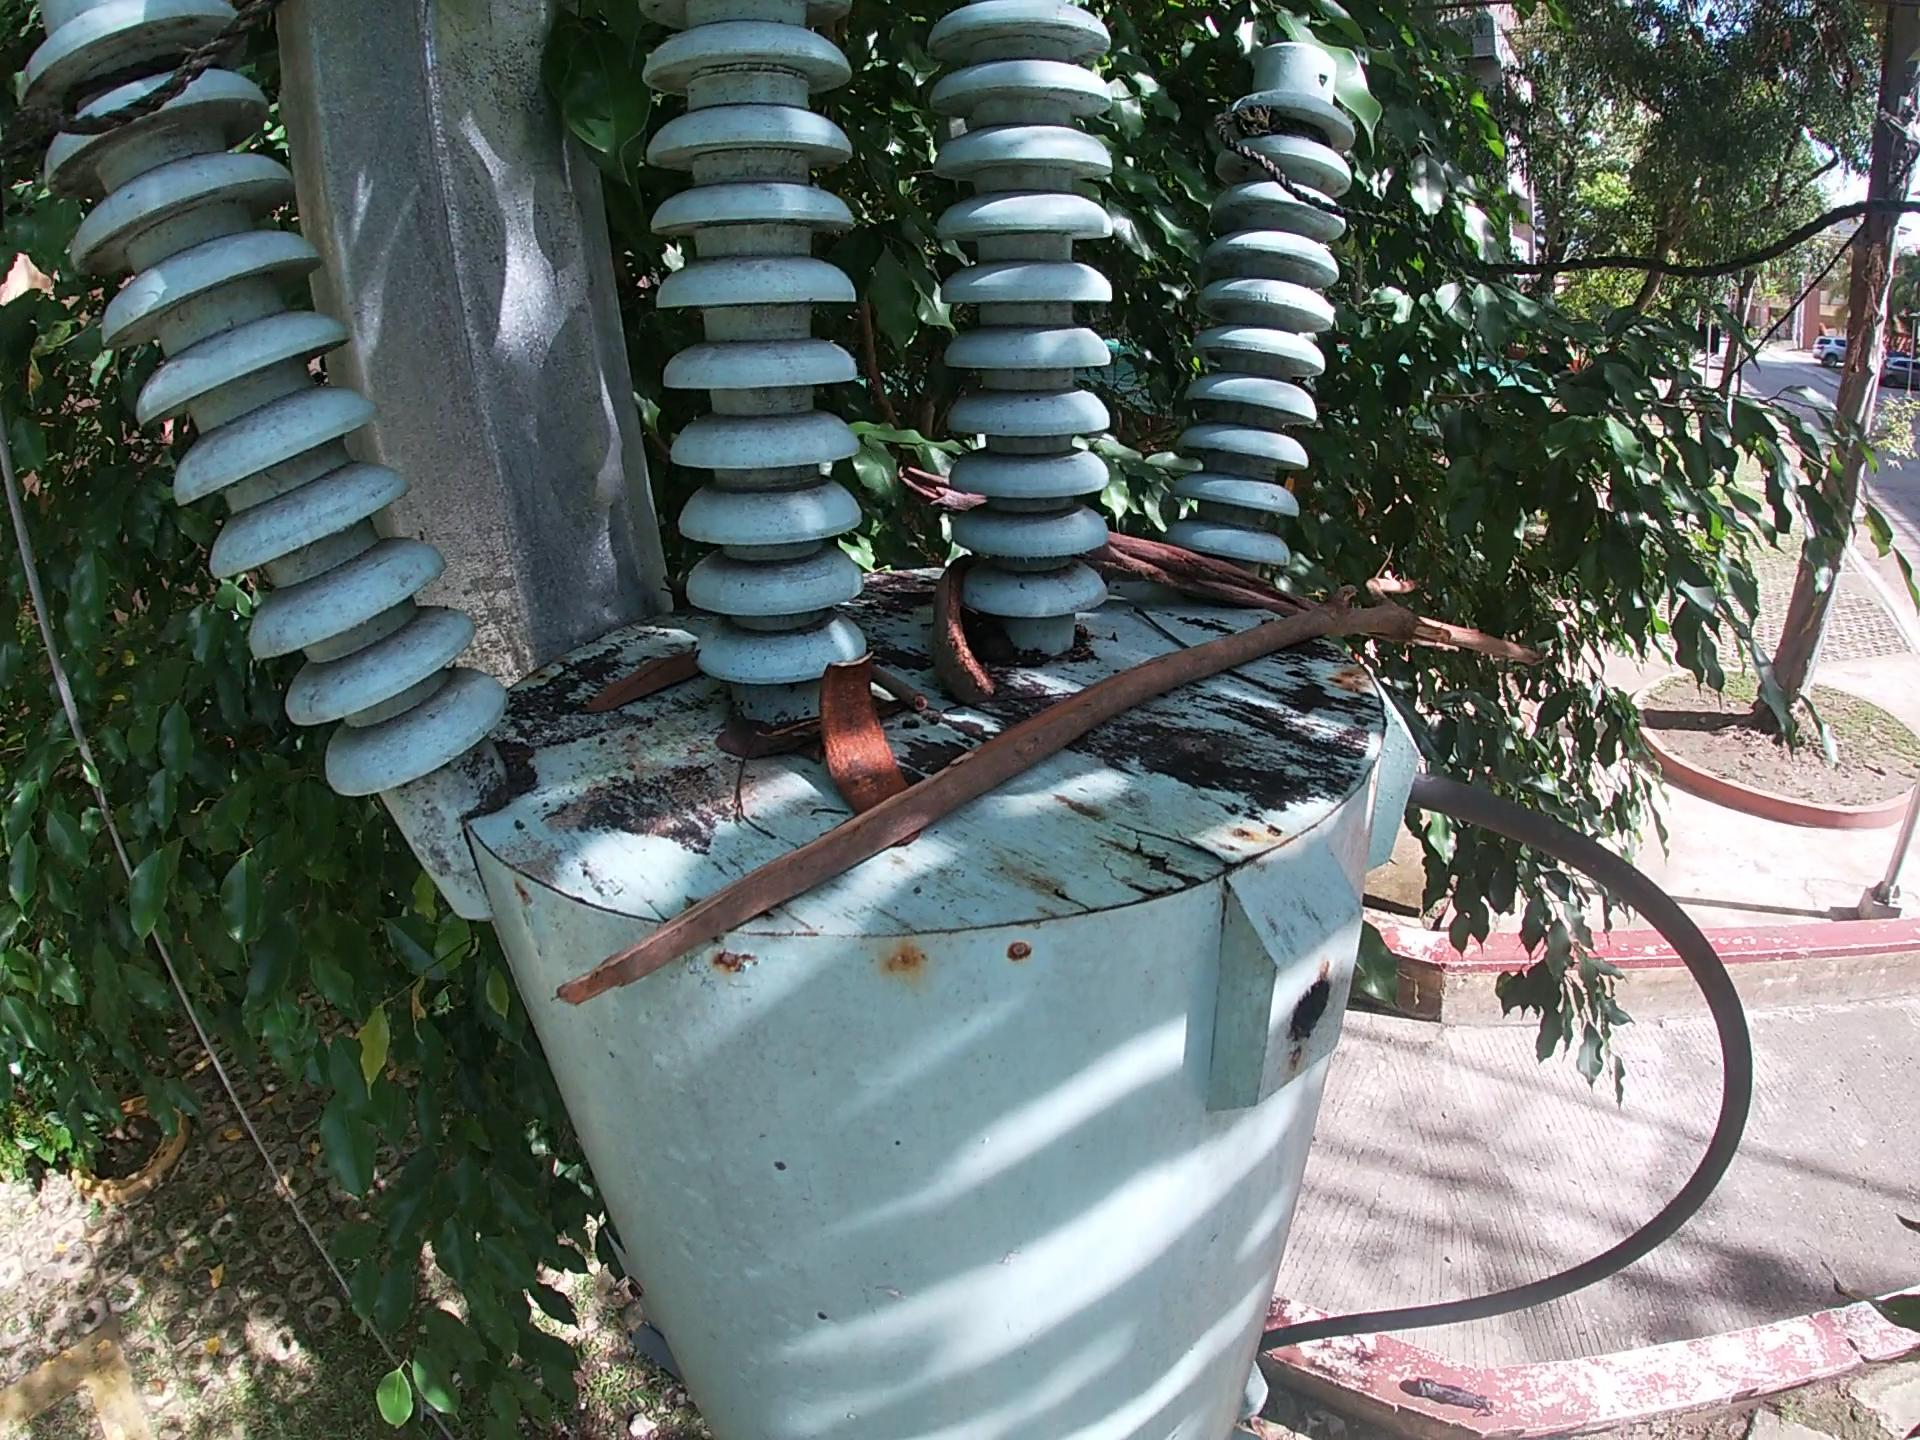leaf: (571, 641, 711, 722)
mahogany fruit: (815, 650, 912, 821), (924, 548, 1002, 708)
tree branch: (547, 566, 1559, 1018), (889, 455, 1349, 629), (862, 659, 939, 734)
